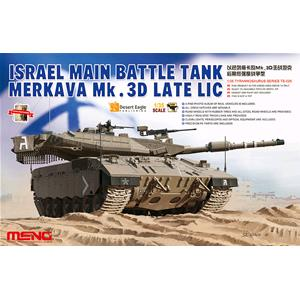Battle Tank: (8, 127, 285, 215)
